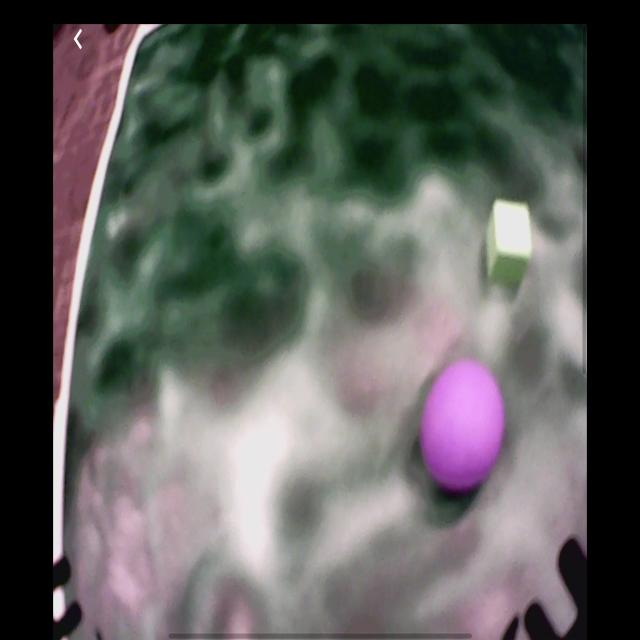ball: (420, 363, 506, 492)
